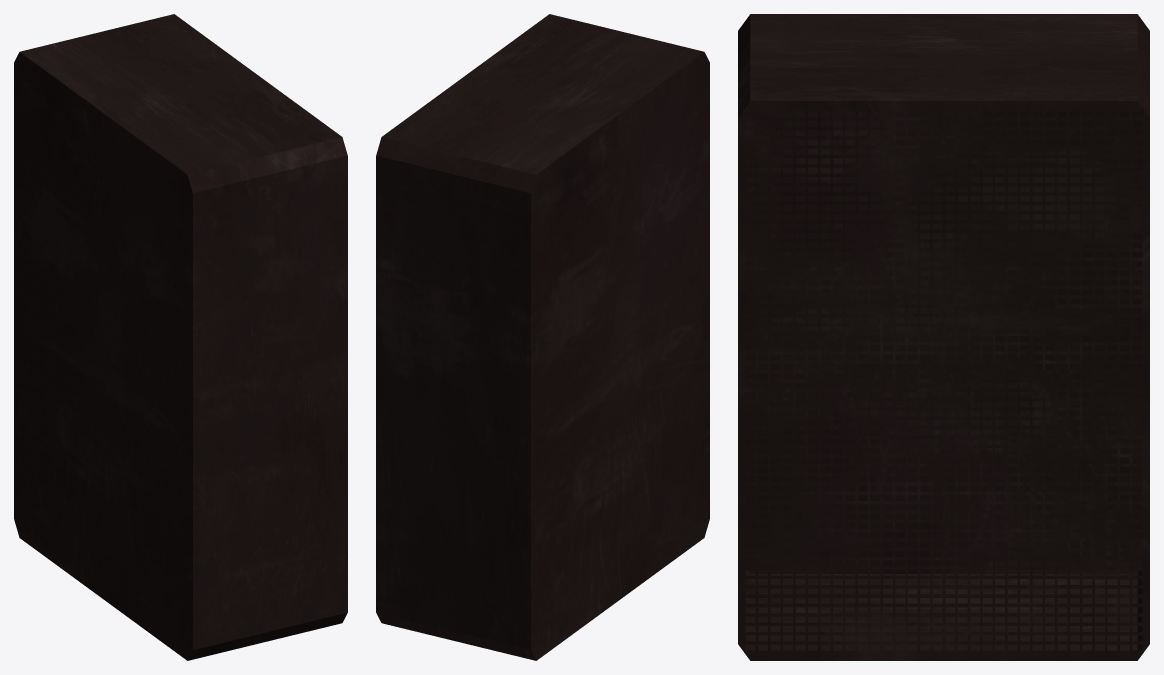
File: Lautsprecher.fbx
3 renders of one model, left to right at view 1: azimuth 30°, elevation 25°; view 2: azimuth 150°, elevation 25°; view 3: azimuth 270°, elevation 25°, orthographic. The views are drawn at different scales.
Parts seen in each view (by area): view 1: Lautsprecher; view 2: Lautsprecher; view 3: Lautsprecher.
Part boxes in pixels (<box>): Lautsprecher: <box>14,14,347,660</box>; Lautsprecher: <box>376,14,709,660</box>; Lautsprecher: <box>738,14,1149,660</box>.
Size of the model in its own units: 10 by 30 by 20.
